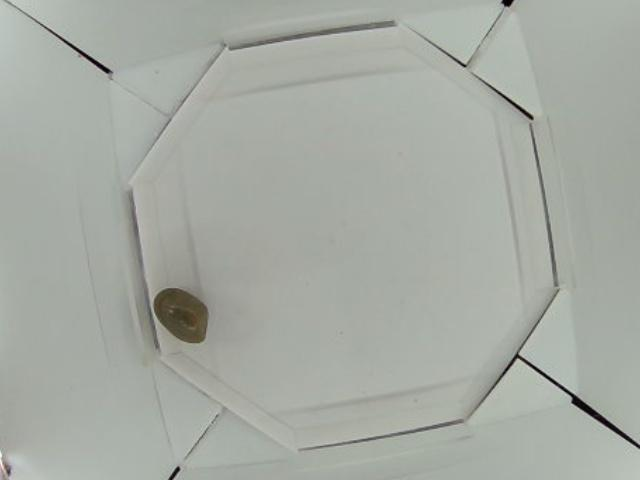Pebble: (153, 285, 213, 344)
